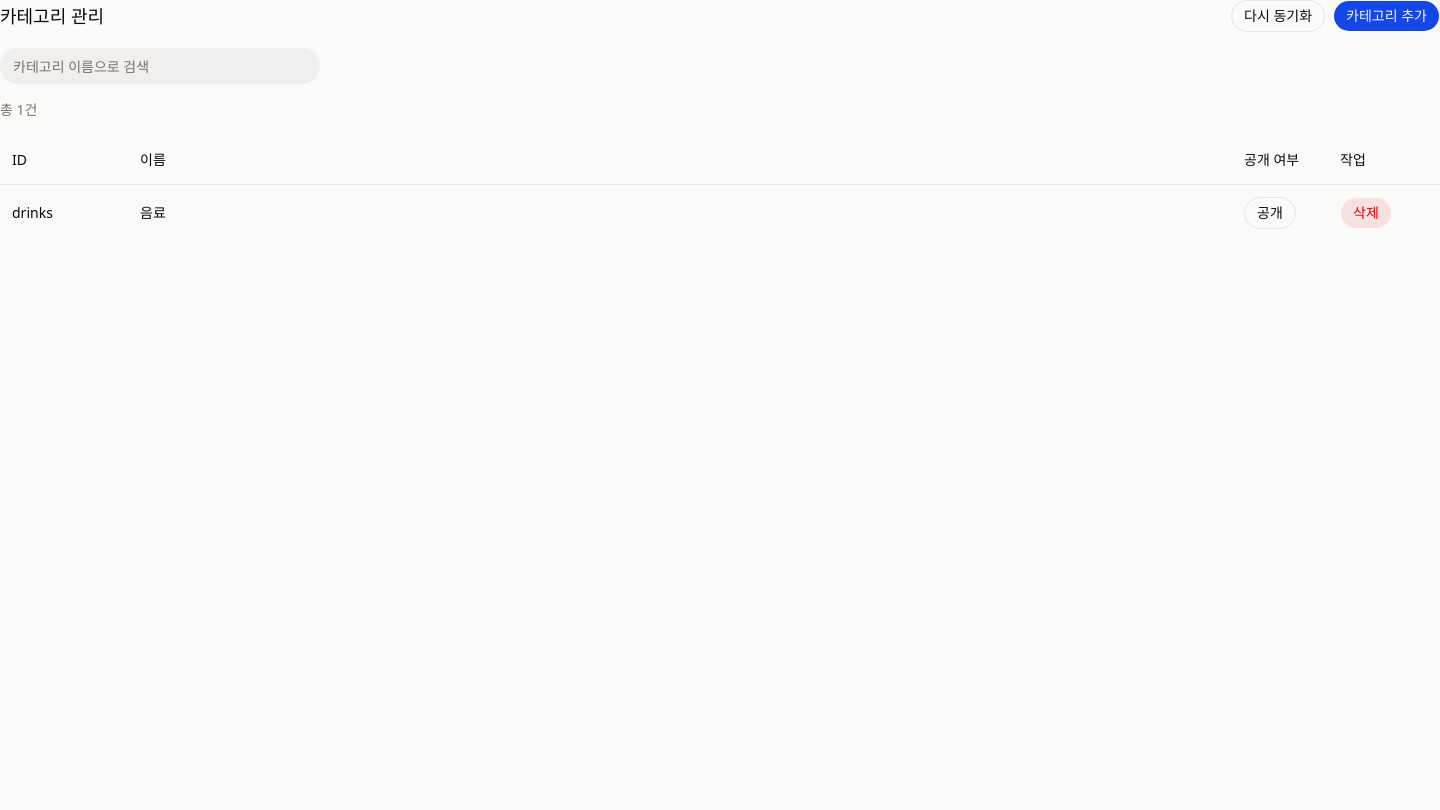
Test: CategoryManagementPage › surfaces a failed category delete inside the still-open confirm dialog
Click the button "삭제": (1366, 212) [1340, 196, 1392, 228]
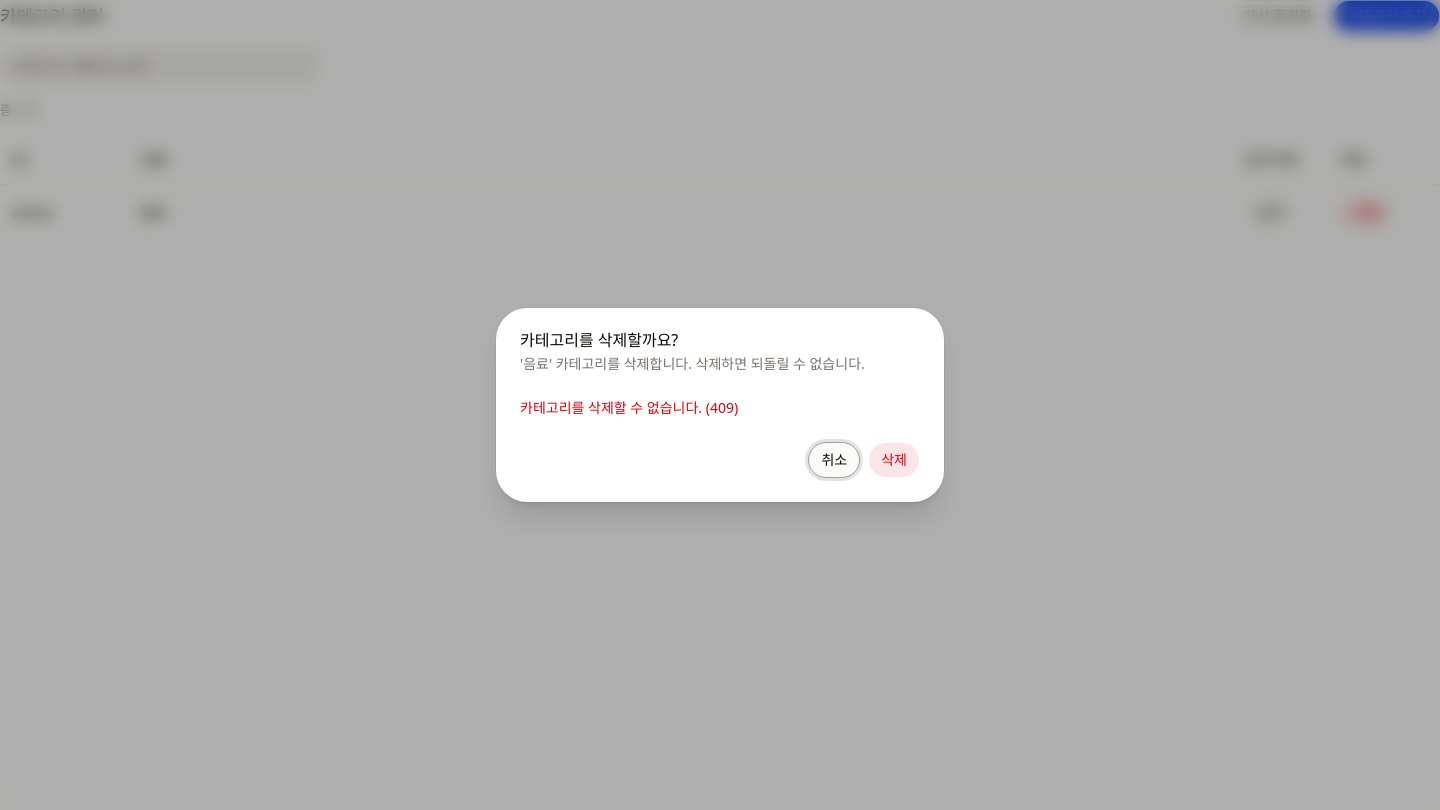
Result: the message reads "카테고리를 삭제할 수 없습니다. (409)" at [520, 398, 738, 417]
